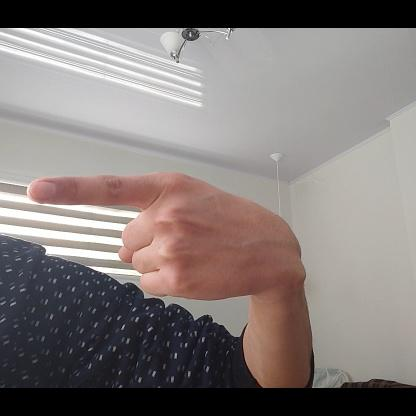G: (27, 175, 304, 301)
